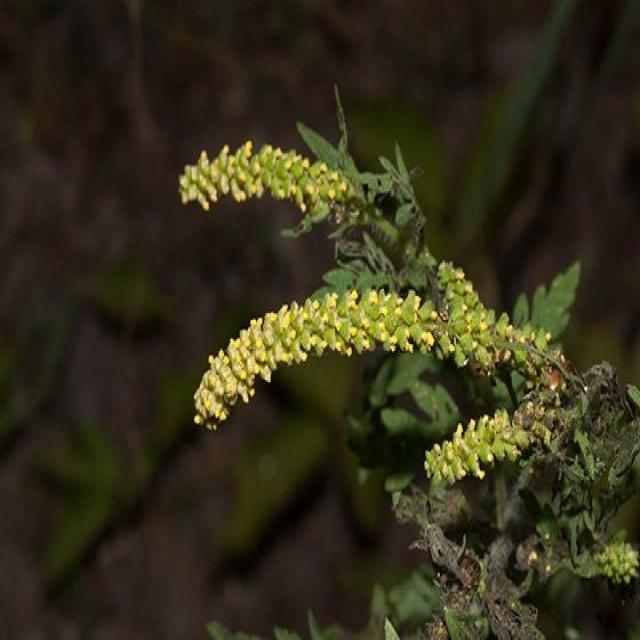ambrosia: (171, 268, 632, 504), (170, 122, 403, 241)
